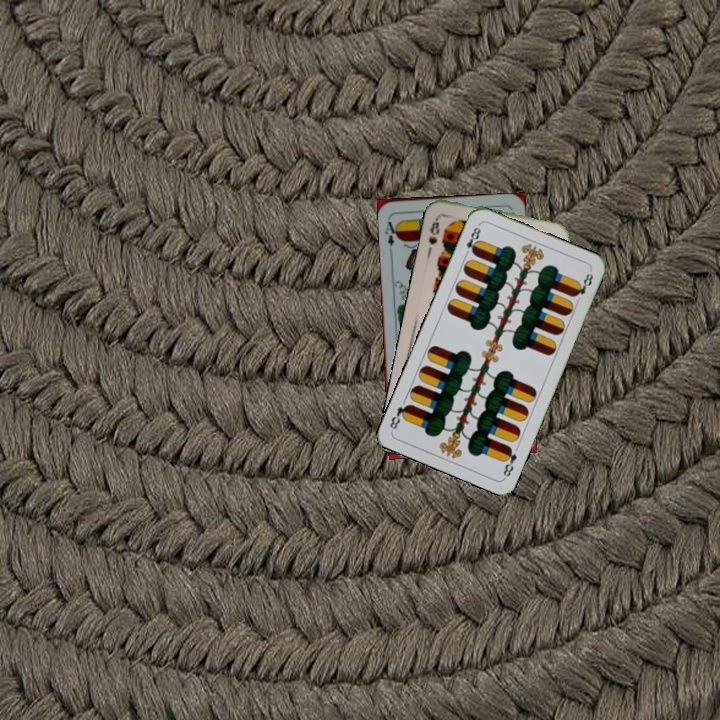E8: (460, 221, 483, 259), (499, 442, 520, 480)
EA: (381, 213, 401, 249)
S8: (425, 212, 447, 247)
